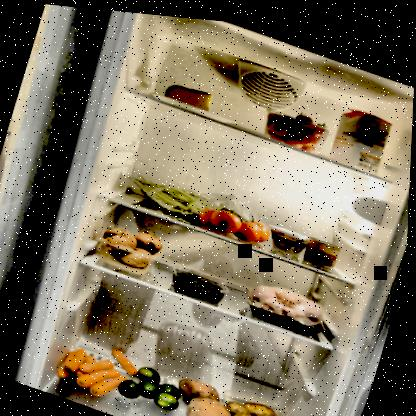blueberries: (172, 263, 231, 304)
carrot: (54, 329, 146, 405)
cheese: (163, 76, 215, 110)
chicken: (243, 269, 340, 338)
corn: (303, 229, 344, 268)
green_beans: (126, 159, 242, 233)
lime: (118, 354, 191, 411)
onion: (99, 214, 169, 274)
potato: (222, 383, 303, 415)
strawberries: (257, 94, 338, 155)
sweet_potato: (173, 364, 247, 415)
tomato: (196, 192, 279, 245)
